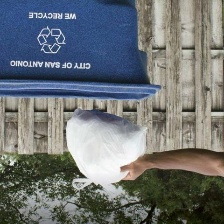plastic_bag: (63, 103, 151, 199)
